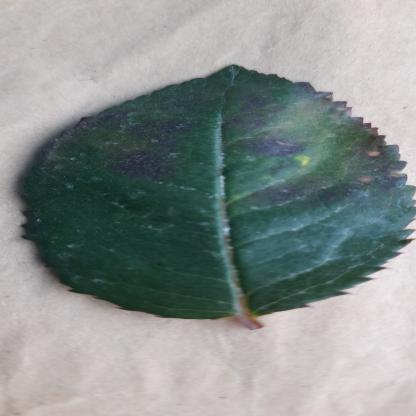downy-mildew: (20, 65, 416, 321)
